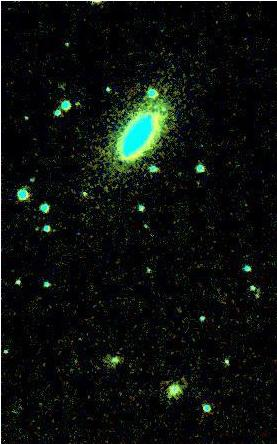star: (139, 225, 169, 255)
